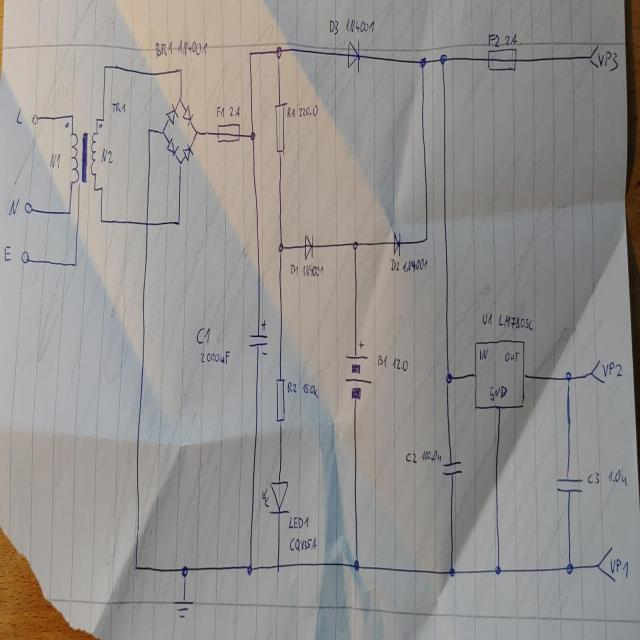capacitor: (248, 318, 268, 357), (554, 473, 584, 495), (441, 458, 462, 478)
crossover: (144, 219, 148, 227)
diode: (261, 478, 291, 516), (346, 38, 362, 72), (304, 232, 314, 260), (181, 103, 193, 125), (165, 104, 178, 124), (166, 136, 178, 156), (392, 230, 401, 256), (181, 142, 193, 160)
ground: (172, 598, 194, 619)
junction: (564, 559, 575, 577), (274, 45, 284, 63), (180, 563, 189, 579), (444, 370, 453, 386), (564, 370, 572, 387), (493, 563, 502, 577), (438, 53, 448, 65), (352, 558, 360, 572), (245, 562, 253, 576), (419, 55, 427, 69), (448, 565, 456, 578), (277, 242, 284, 254), (249, 130, 256, 141), (132, 562, 139, 573), (352, 239, 358, 251), (160, 126, 165, 136), (275, 561, 280, 571), (146, 126, 152, 134), (247, 49, 252, 58), (423, 234, 428, 243), (177, 95, 182, 104), (102, 62, 107, 70), (176, 218, 180, 227), (178, 66, 182, 74), (73, 260, 77, 268), (67, 208, 71, 216), (194, 128, 198, 136), (178, 158, 182, 166), (70, 112, 74, 120), (92, 185, 96, 193), (99, 216, 103, 223), (100, 185, 104, 192), (95, 115, 99, 122), (101, 115, 105, 122)
resistor: (274, 101, 286, 154), (274, 376, 286, 423)
source: (343, 338, 372, 402)
terminal: (596, 545, 616, 582), (590, 358, 605, 384), (588, 43, 600, 69), (20, 249, 30, 264), (23, 200, 33, 214), (32, 112, 38, 124)
text: (177, 37, 207, 59), (498, 313, 534, 331), (344, 16, 376, 35), (288, 534, 318, 552), (199, 348, 230, 365), (597, 49, 618, 71), (402, 257, 428, 273), (610, 557, 628, 579), (608, 468, 628, 486), (602, 360, 622, 378), (288, 514, 310, 530), (420, 447, 442, 463), (488, 383, 507, 401), (155, 39, 173, 58), (300, 264, 324, 278), (195, 324, 211, 344), (297, 104, 319, 118), (391, 356, 408, 372), (48, 150, 61, 170), (7, 196, 20, 216), (302, 383, 318, 399), (486, 32, 501, 48), (503, 32, 518, 48), (328, 17, 340, 37), (100, 147, 114, 163), (110, 100, 126, 114), (14, 104, 24, 125), (586, 470, 600, 484), (376, 353, 388, 369), (504, 349, 518, 362), (481, 312, 494, 326), (3, 242, 12, 262), (404, 452, 418, 464), (389, 257, 400, 272), (228, 105, 240, 118), (286, 103, 296, 118), (287, 380, 297, 394), (478, 346, 488, 360), (290, 262, 298, 277), (216, 105, 224, 119)
transformer: (68, 129, 100, 187)
